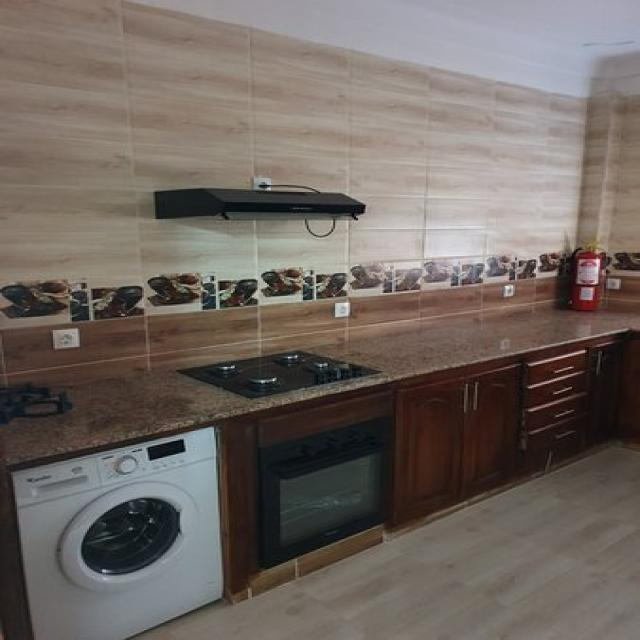oven: (248, 409, 419, 569)
wardrobe: (403, 366, 527, 502)
washing machine: (2, 448, 248, 638)
